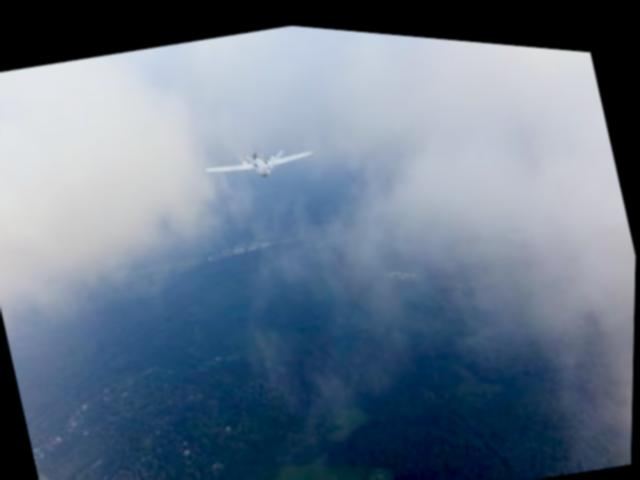uav: (201, 125, 320, 192)
